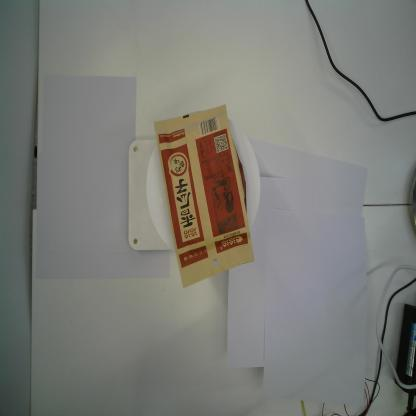Dried Food: (152, 103, 256, 290)
